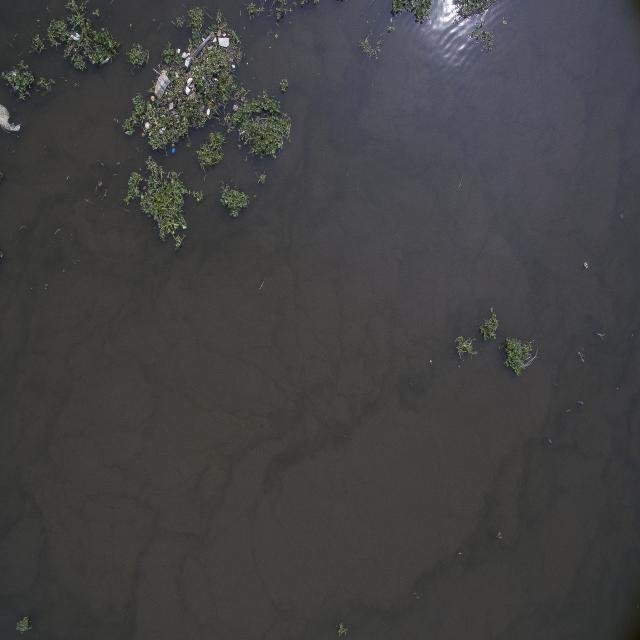plastic: (0, 97, 26, 140), (139, 116, 168, 140), (152, 76, 172, 102), (176, 45, 194, 73), (216, 29, 235, 52), (67, 23, 82, 47), (183, 74, 197, 99), (167, 140, 181, 158), (202, 106, 216, 120)
